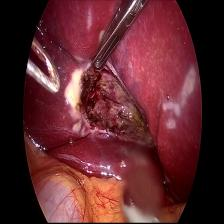Grasper: (92, 0, 140, 83), (26, 39, 60, 107)
